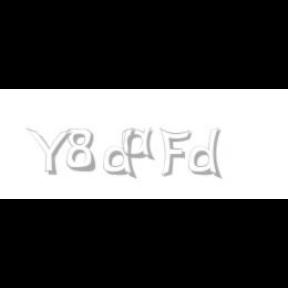8: (66, 128, 96, 172)
F: (159, 128, 191, 178)
Y: (26, 128, 72, 176)
a: (122, 128, 160, 160)
d: (188, 128, 226, 180), (104, 128, 140, 180)
